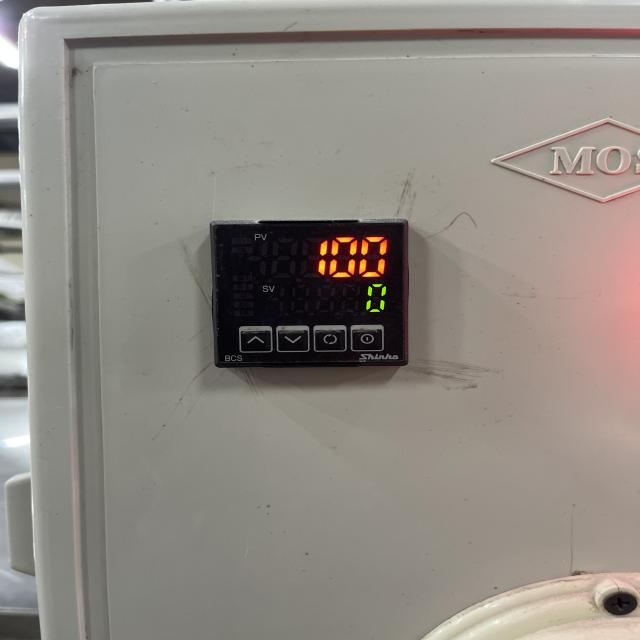display: (223, 228, 401, 322)
frame: (310, 233, 388, 279), (362, 281, 390, 314)
gauge: (211, 219, 409, 368)
